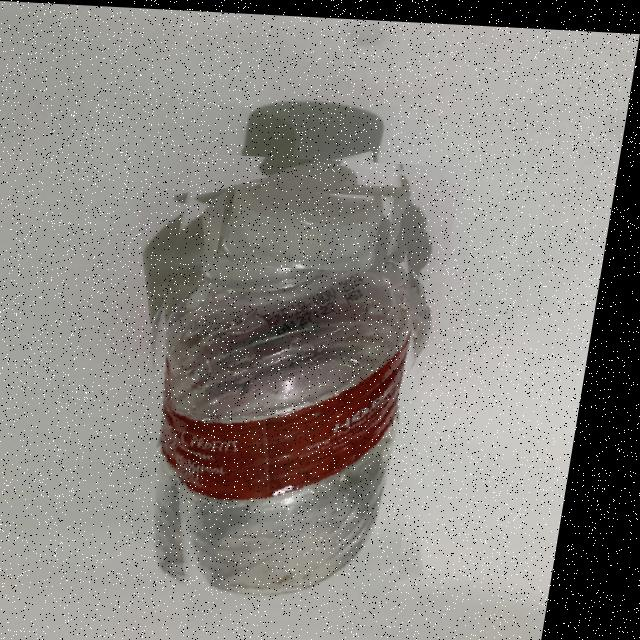plasticbottle: (118, 149, 468, 621)
plasticbottlecap: (224, 182, 404, 267)
